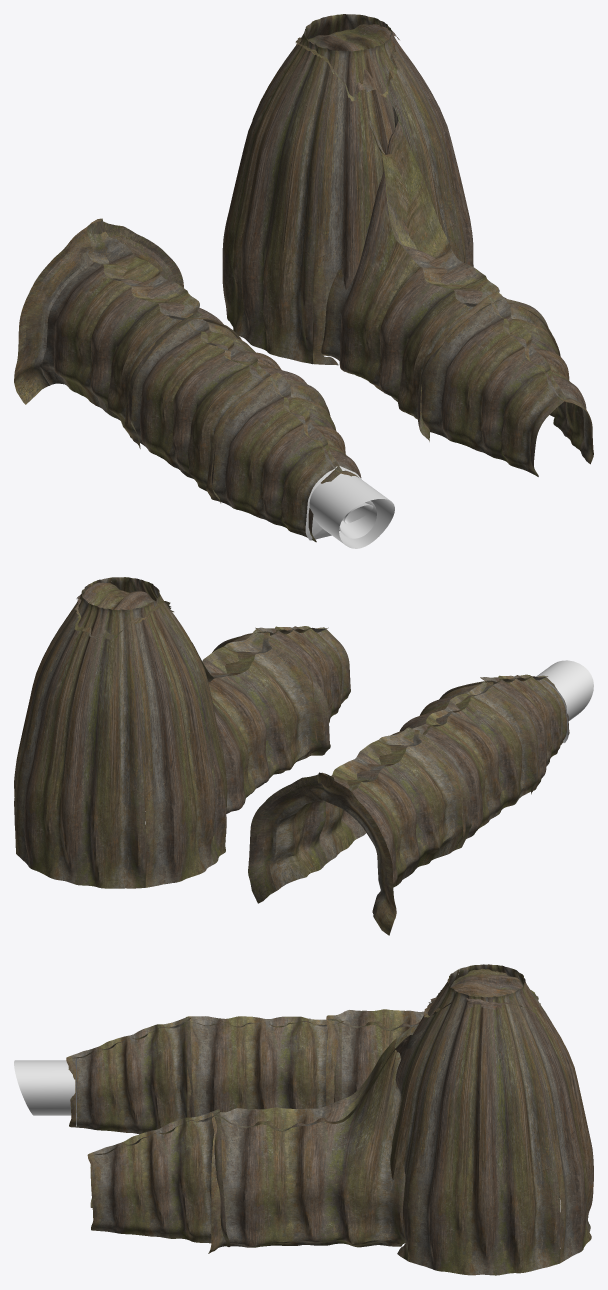
The model's file is Root_Cave_Rooms_1A1.fbx.
3 renders of one model, top to bottom at view 1: azimuth 30°, elevation 25°; view 2: azimuth 150°, elevation 25°; view 3: azimuth 270°, elevation 25°, orthographic. The views are drawn at different scales.
Visible parts, largest first — view 1: Root_Cave_Room_1A1, Root_Cave_Corridor_1A1, Ring 3; view 2: Root_Cave_Room_1A1, Root_Cave_Corridor_1A1, Ring 3; view 3: Root_Cave_Room_1A1, Root_Cave_Corridor_1A1, Ring 3.
Part boxes in pixels (<box>): Root_Cave_Room_1A1: <box>222,14,593,476</box>; Root_Cave_Corridor_1A1: <box>14,218,361,542</box>; Ring 3: <box>309,474,394,548</box>; Root_Cave_Room_1A1: <box>14,577,350,888</box>; Root_Cave_Corridor_1A1: <box>248,674,569,935</box>; Ring 3: <box>536,660,593,720</box>; Root_Cave_Room_1A1: <box>87,964,593,1275</box>; Root_Cave_Corridor_1A1: <box>66,1009,424,1134</box>; Ring 3: <box>14,1060,75,1115</box>.
Size of the model in its own units: 4124 by 2801 by 5475.
